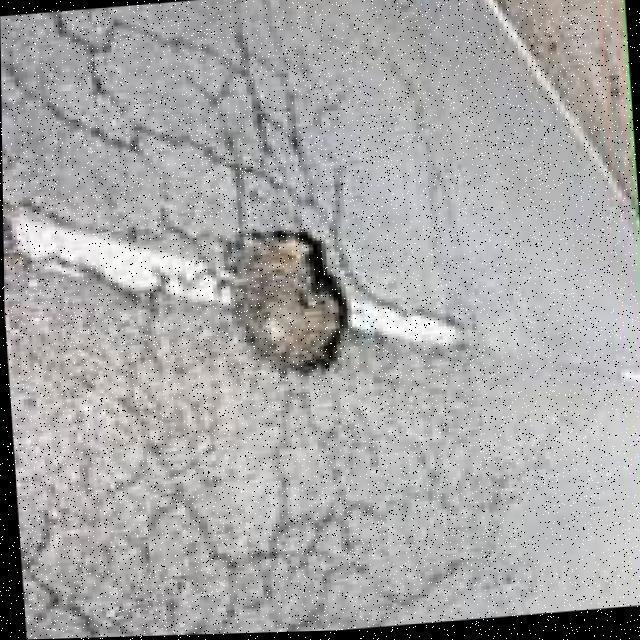Pothole: (231, 234, 346, 376)
